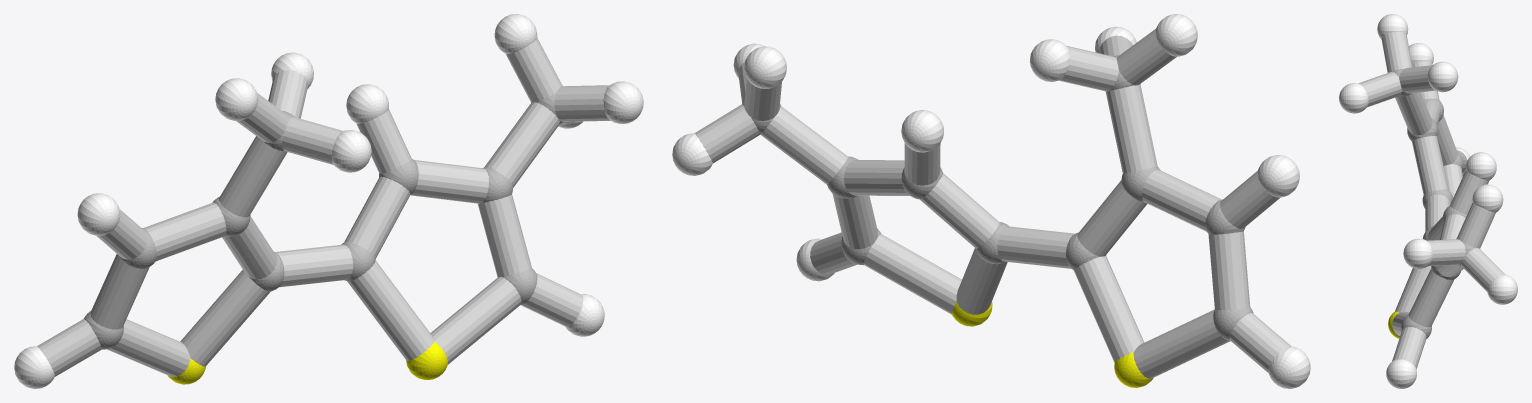
The model's file is Methylthiophene_Phi_5_Theta_140_Methylthiophene.glb.
3 renders of one model, left to right at view 1: azimuth 30°, elevation 25°; view 2: azimuth 150°, elevation 25°; view 3: azimuth 270°, elevation 25°, orthographic. The views are drawn at different scales.
Visible parts, largest first — view 1: grp7965, grp3621, grp1, grp7241; view 2: grp7965, grp3621, grp1, grp7241; view 3: grp7965, grp3621, grp1.
Boxes of the visible parts, box(x1,y1,x2,y2) form: grp7965: box(37, 38, 610, 376); grp3621: box(14, 14, 643, 388); grp1: box(84, 92, 563, 349); grp7241: box(167, 341, 447, 384); grp7965: box(694, 29, 1291, 378); grp3621: box(672, 14, 1310, 388); grp1: box(742, 55, 1253, 340); grp7241: box(952, 302, 1153, 387); grp7965: box(1358, 31, 1504, 369); grp3621: box(1339, 14, 1517, 388); grp1: box(1392, 68, 1474, 338).
Size of the model in its own units: 9.7 by 5.42 by 3.47.
